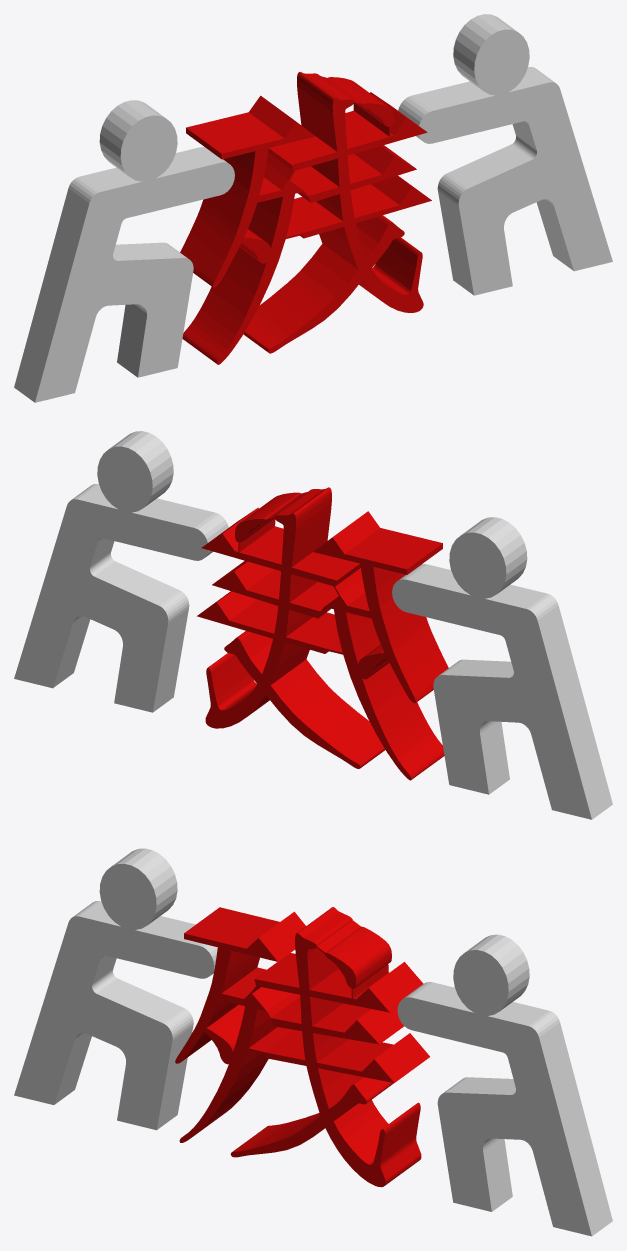
The model's file is meeple.glb.
3 views of the same model, one above another, from view 1: azimuth 30°, elevation 25°; view 2: azimuth 150°, elevation 25°; view 3: azimuth 330°, elevation 25° (orthographic).
Parts seen in each view (by area): view 1: Mesh_Mesh_head_geo.001_lambert2SG.001; view 2: Mesh_Mesh_head_geo.001_lambert2SG.001; view 3: Mesh_Mesh_head_geo.001_lambert2SG.001.
Part boxes in pixels (bbox=[...]): Mesh_Mesh_head_geo.001_lambert2SG.001: bbox=[14, 14, 612, 402]; Mesh_Mesh_head_geo.001_lambert2SG.001: bbox=[14, 431, 612, 819]; Mesh_Mesh_head_geo.001_lambert2SG.001: bbox=[14, 848, 612, 1236].
Bounding box in the file's own units: 0.0398 × 0.017 × 0.00427.
